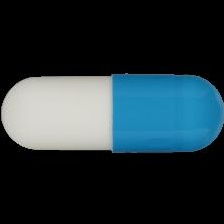63187-361: (0, 0, 224, 224)
